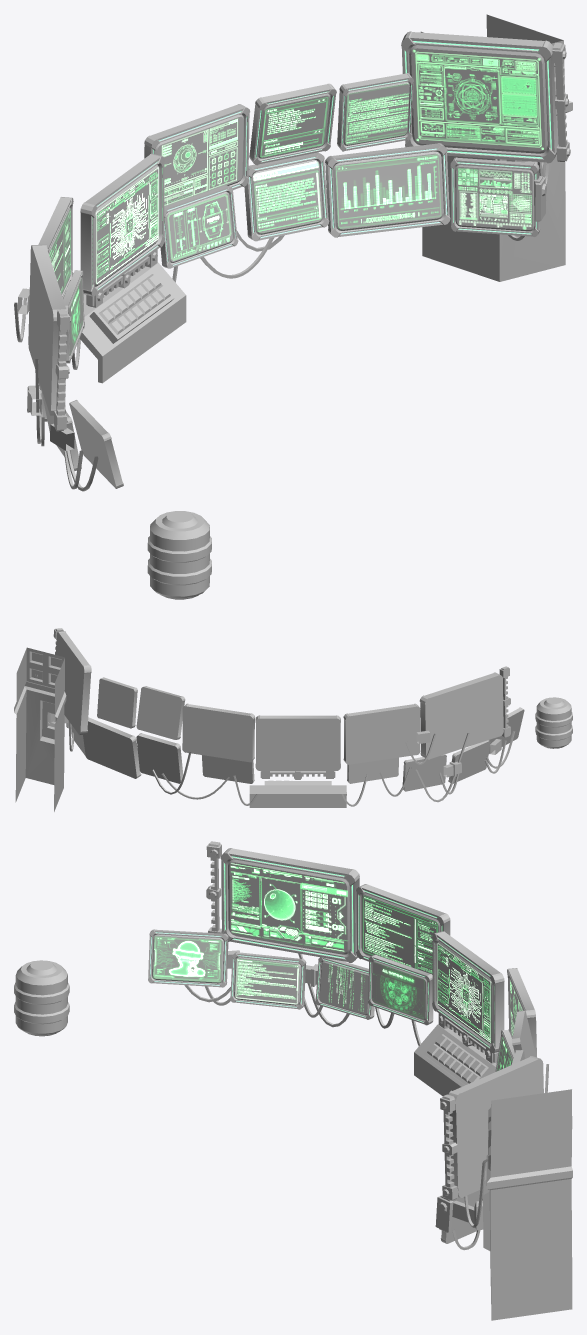
The picture shows the model from 3 angles, top to bottom: view 1: azimuth 30°, elevation 25°; view 2: azimuth 150°, elevation 25°; view 3: azimuth 270°, elevation 25°; orthographic projection. The views are drawn at different scales.
Visible parts, largest first — view 1: FRONT_Ordinateur; view 2: FRONT_Ordinateur; view 3: FRONT_Ordinateur.
Boxes of the visible parts, box(x1,y1,x2,y2) form: FRONT_Ordinateur: box(14, 14, 572, 599); FRONT_Ordinateur: box(14, 628, 572, 811); FRONT_Ordinateur: box(14, 841, 572, 1320).
Bounding box in the file's own units: 15.03 × 5.26 × 12.48.
